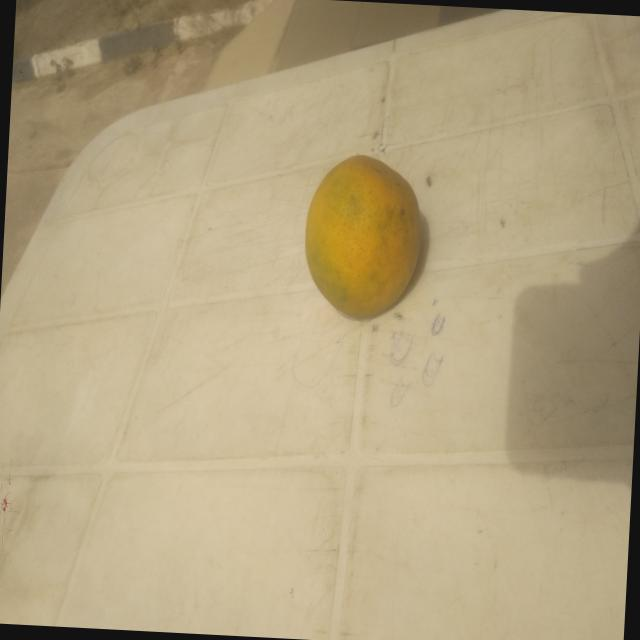Ripe orange: (293, 132, 436, 346)
